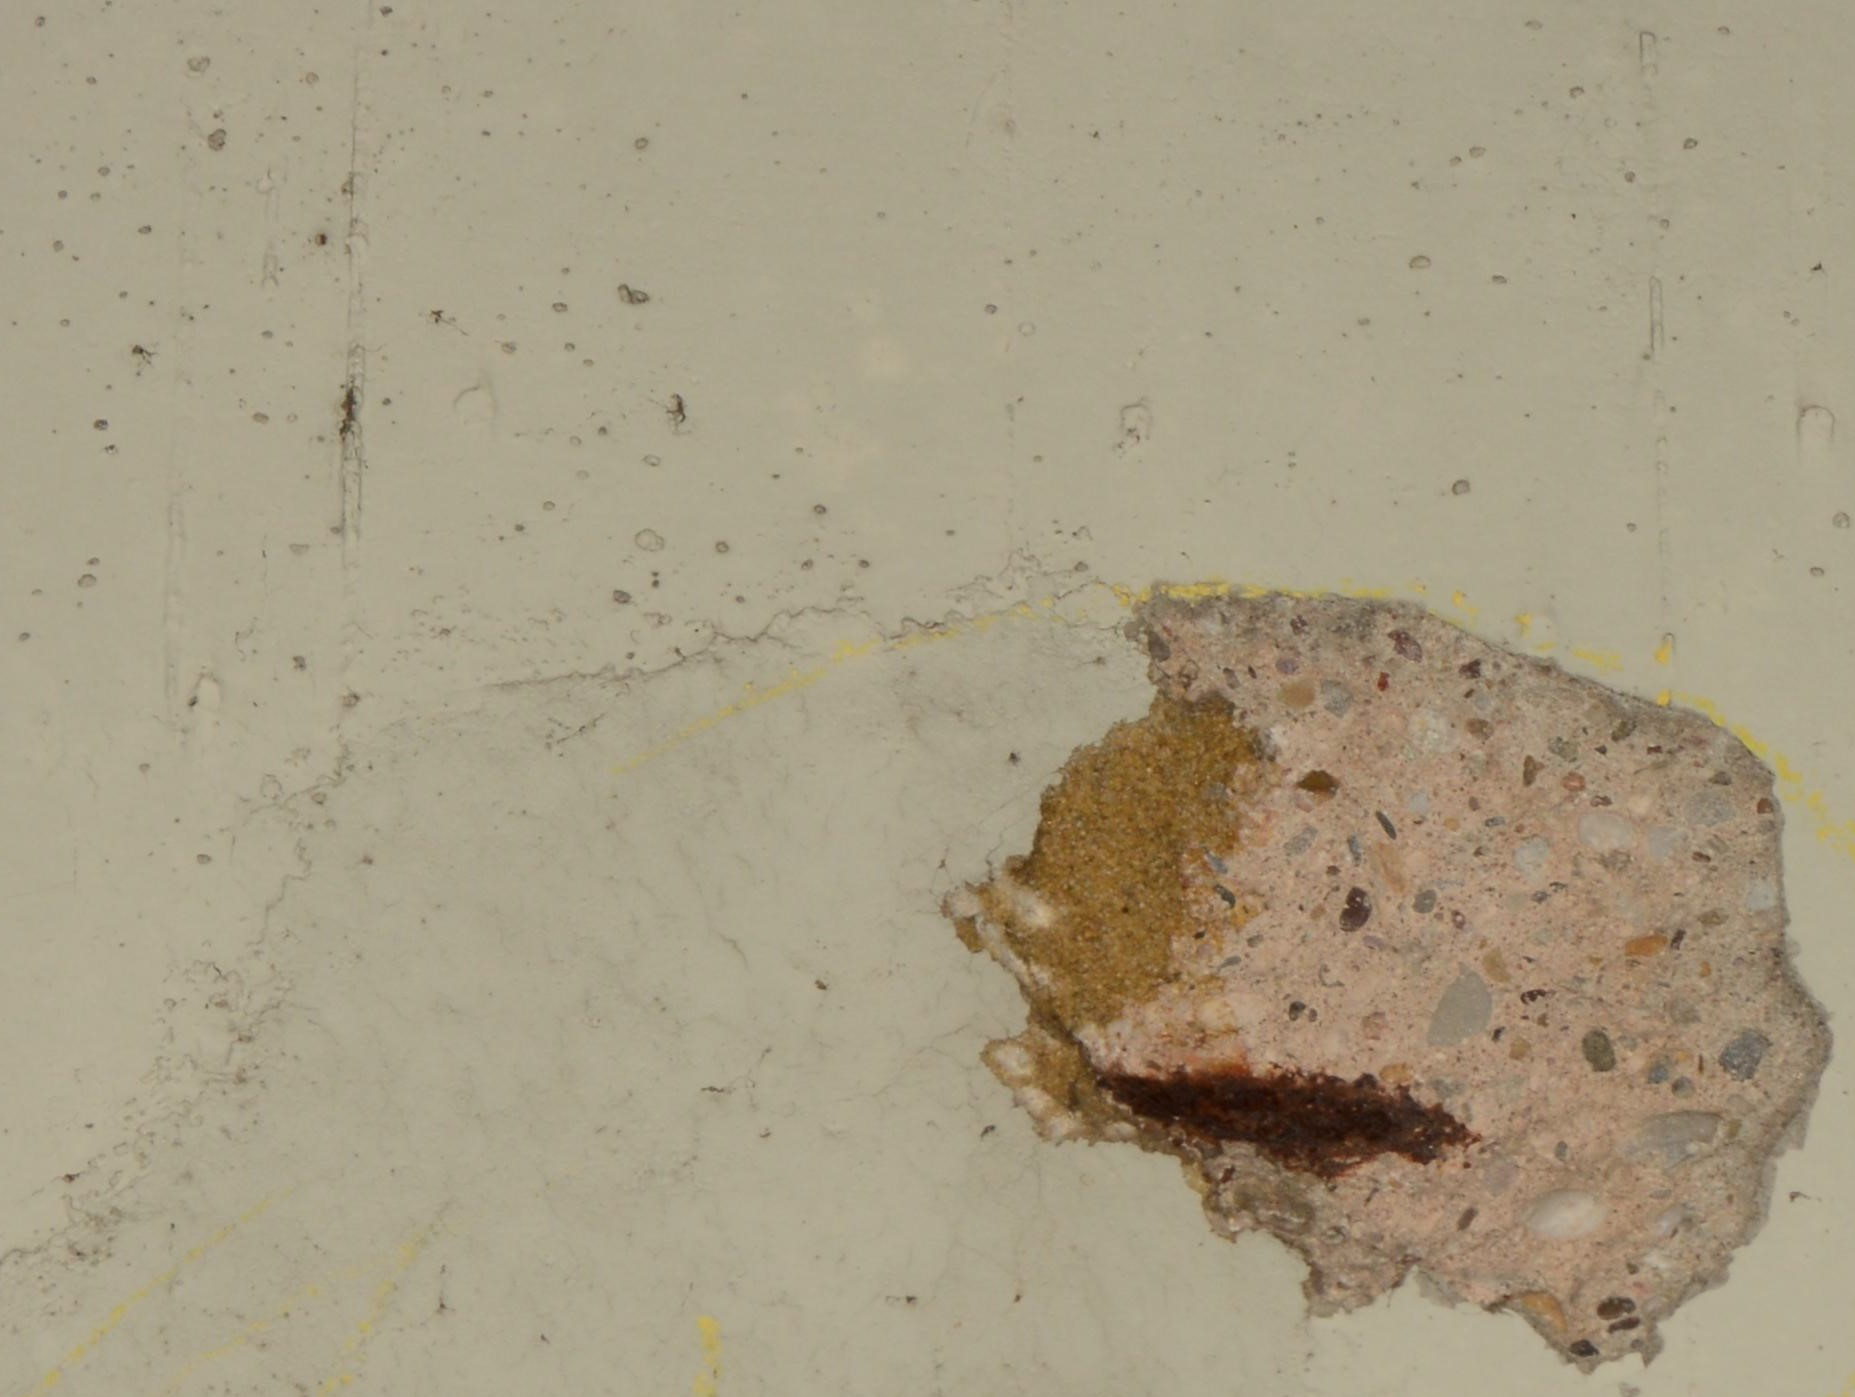Exposed reinforcement: (1096, 1073, 1478, 1180)
Spalling: (939, 580, 1833, 1371)
